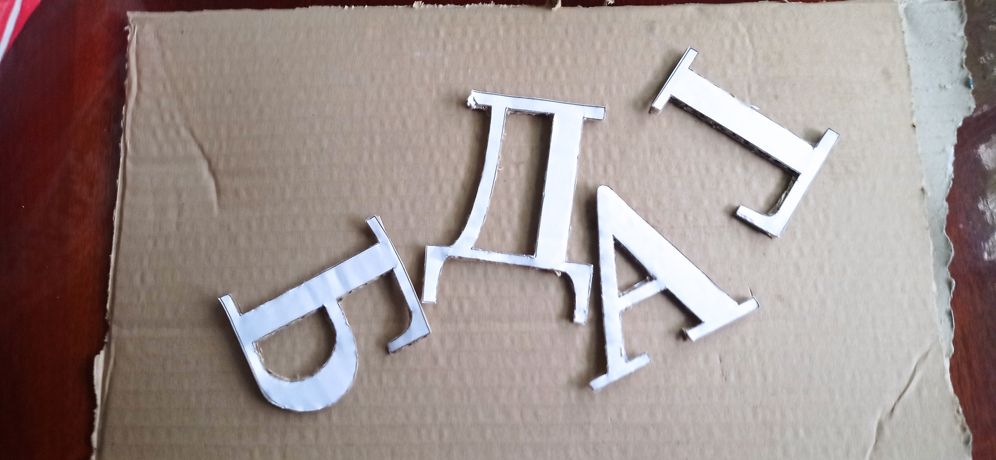a: (590, 185, 759, 394)
b: (216, 215, 431, 414)
d: (422, 88, 607, 324)
g: (650, 46, 840, 237)
